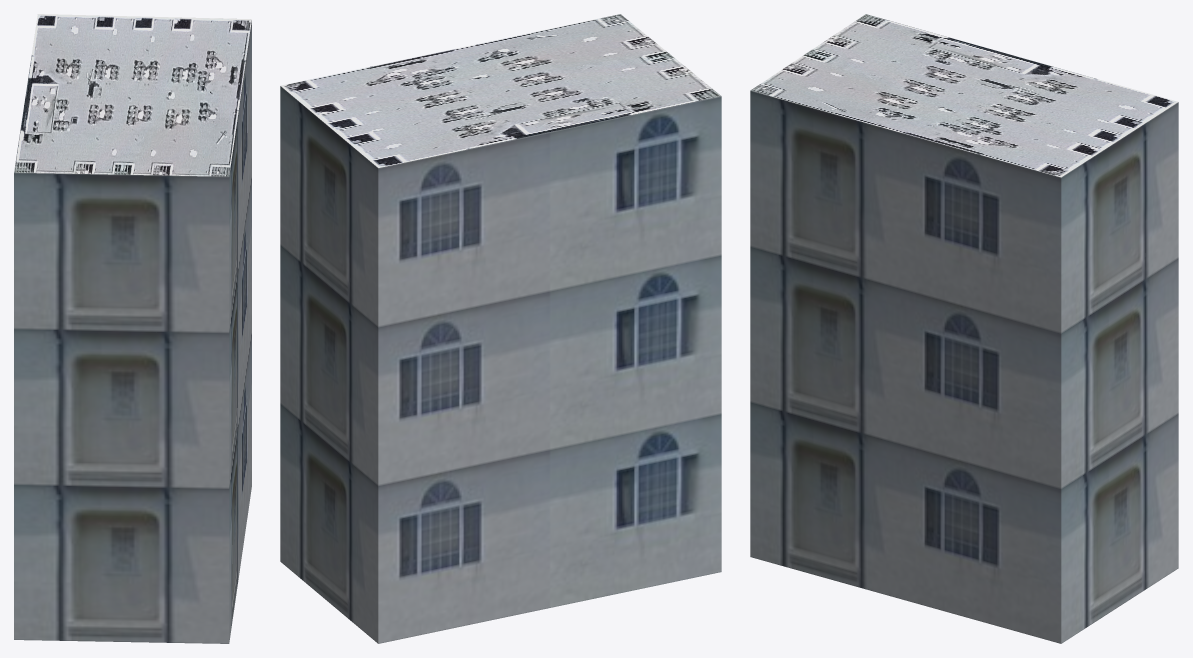
File: ResTex__4288.fbx
3 renders of one model, left to right at view 1: azimuth 30°, elevation 25°; view 2: azimuth 150°, elevation 25°; view 3: azimuth 270°, elevation 25°, orthographic. The views are drawn at different scales.
Parts seen in each view (by area): view 1: CityEngineMaterial_17_m, CityEngineMaterial_8_m; view 2: CityEngineMaterial_17_m, CityEngineMaterial_8_m; view 3: CityEngineMaterial_17_m, CityEngineMaterial_8_m.
Part boxes in pixels (bbox=[...]): CityEngineMaterial_17_m: bbox=[14, 20, 251, 643]; CityEngineMaterial_8_m: bbox=[14, 14, 251, 176]; CityEngineMaterial_17_m: bbox=[280, 86, 721, 643]; CityEngineMaterial_8_m: bbox=[280, 14, 721, 167]; CityEngineMaterial_17_m: bbox=[750, 90, 1178, 643]; CityEngineMaterial_8_m: bbox=[750, 14, 1177, 177].
Size of the model in its own units: 6.77 by 9 by 7.49.
Materials: 2 (2 with a texture image).
